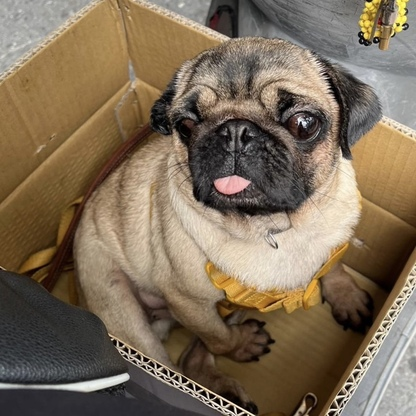Pug: (64, 30, 383, 381)
